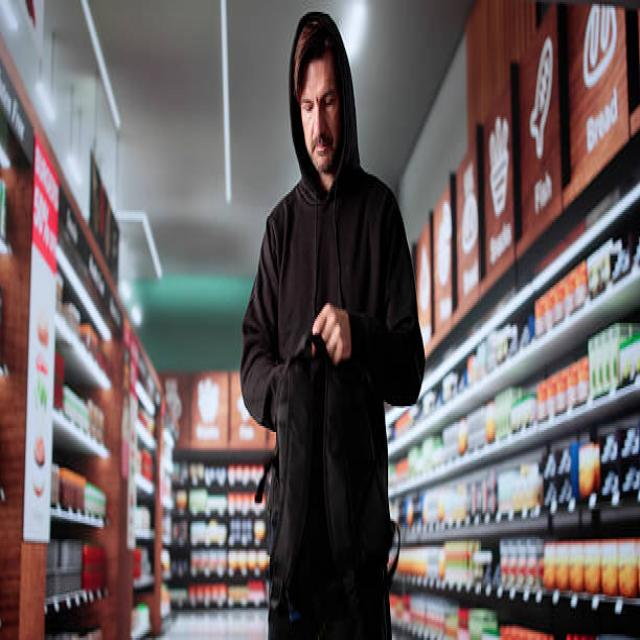bags: (269, 330, 394, 612)
hands: (313, 303, 350, 365)
